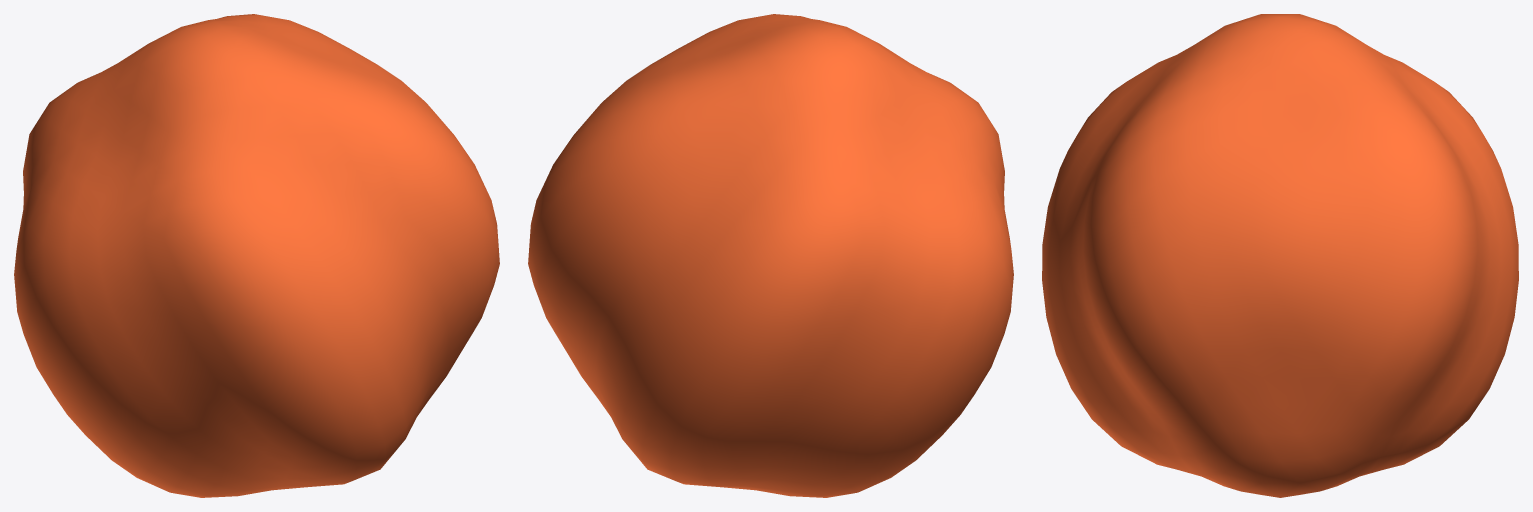
The model's file is ember.glb.
The picture shows the model from 3 angles, left to right: view 1: azimuth 30°, elevation 25°; view 2: azimuth 150°, elevation 25°; view 3: azimuth 270°, elevation 25°; orthographic projection. The views are drawn at different scales.
Visible parts, largest first — view 1: ember_core; view 2: ember_core; view 3: ember_core.
Part boxes in pixels (x1,y1,x2,y2): ember_core: (14, 14, 499, 497); ember_core: (528, 14, 1013, 497); ember_core: (1042, 14, 1518, 497).
Bounding box in the file's own units: 2.5 × 2.61 × 2.57.
